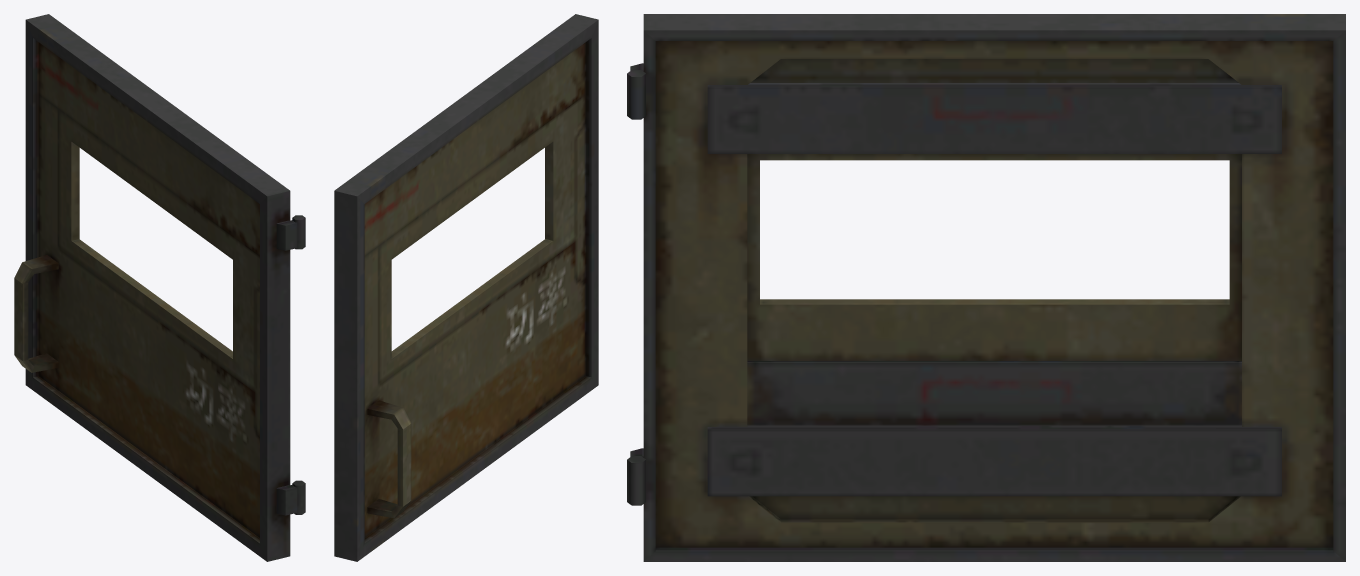
Rendered from cabinet_electrical_empty_small_door.DAE.
3 views of the same model, side by side, from view 1: azimuth 30°, elevation 25°; view 2: azimuth 150°, elevation 25°; view 3: azimuth 270°, elevation 25° (orthographic). The views are drawn at different scales.
Parts seen in each view (by area): view 1: cabinet_electrical_empty_small_door; view 2: cabinet_electrical_empty_small_door; view 3: cabinet_electrical_empty_small_door.
Boxes of the visible parts, x1=… form: cabinet_electrical_empty_small_door: x1=14, y1=14, x2=305, y2=561; cabinet_electrical_empty_small_door: x1=334, y1=14, x2=598, y2=561; cabinet_electrical_empty_small_door: x1=627, y1=14, x2=1345, y2=561.
Size of the model in its own units: 12.02 by 81.95 by 66.86.
